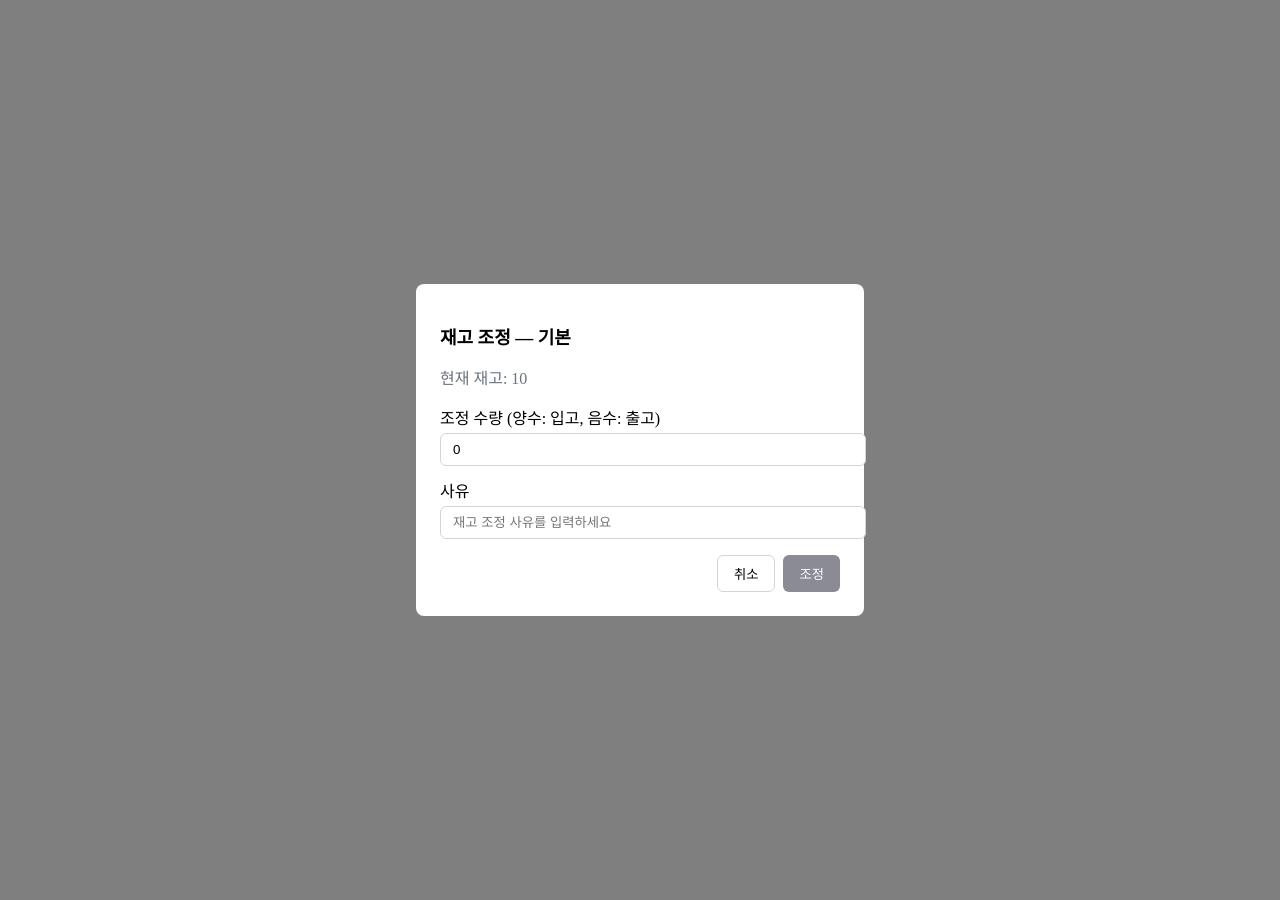
Test: StockAdjustmentForm › API 에러 시 에러 메시지를 표시한다
Replace the text in the number field labelled "조정 수량 (양수: 입고, 음수: 출고)" with "-20": (653,450) [440,433,866,466]
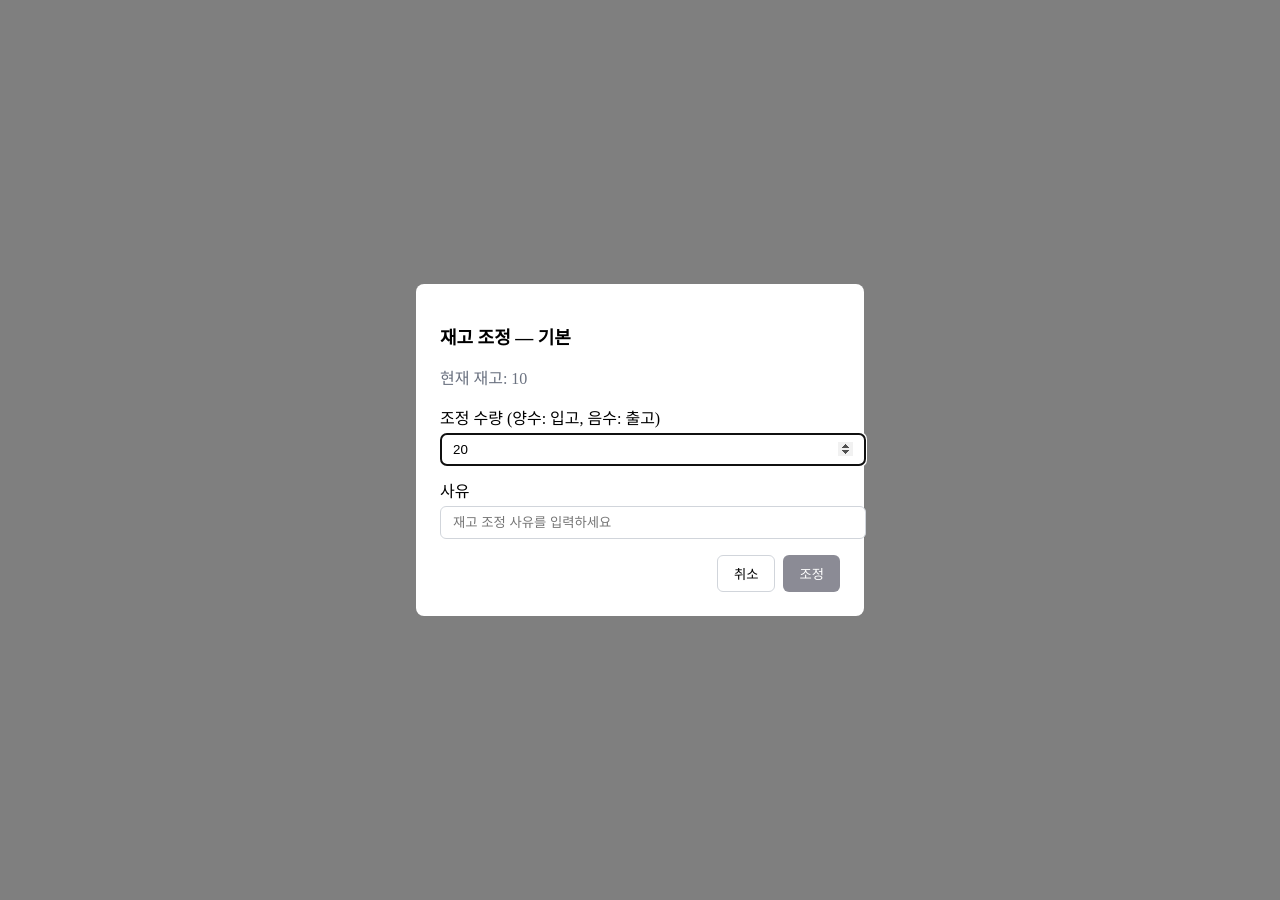
In the field labelled "사유": (653,522) [440,506,866,539], type "출고"
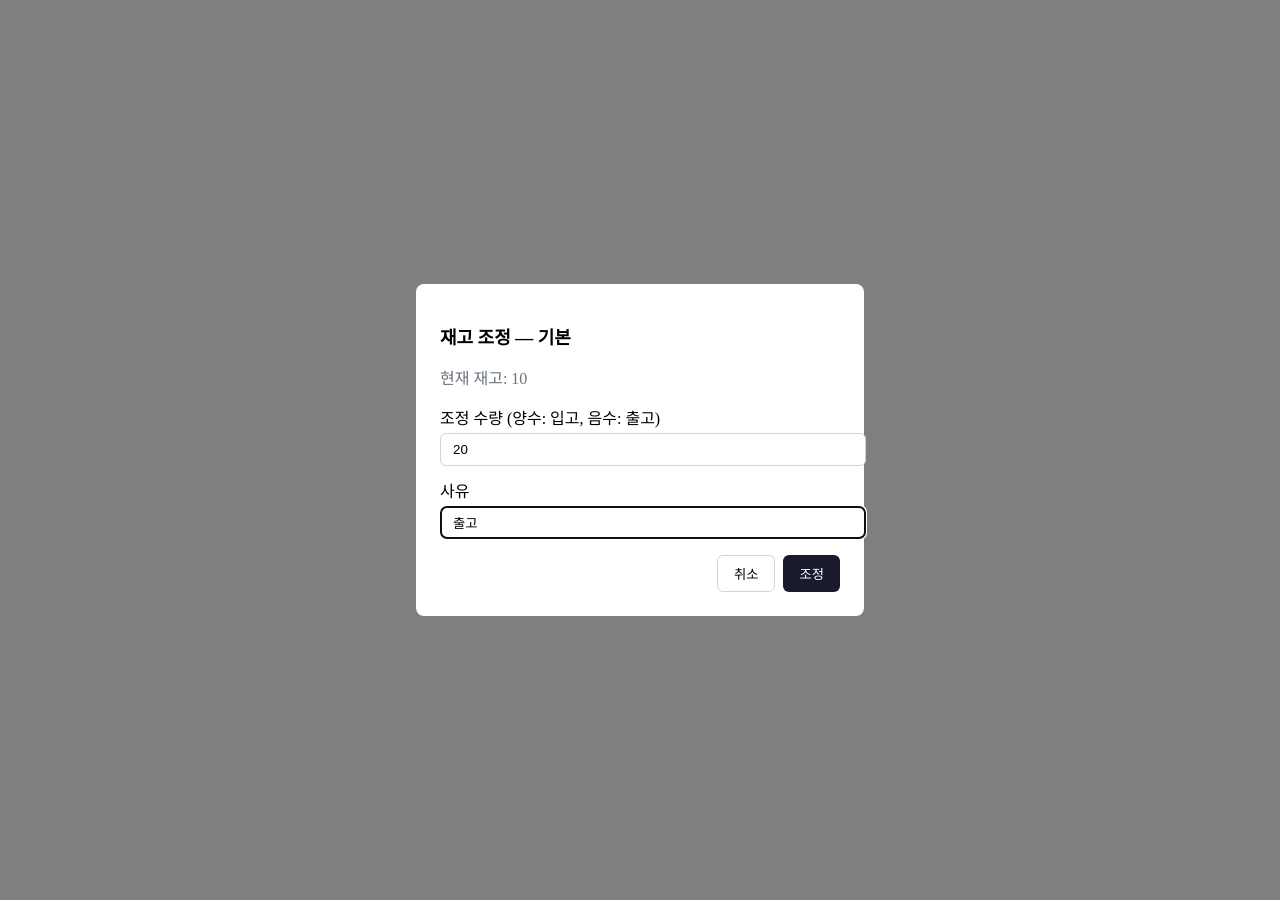
Click the button "조정": (812,574) [784,555,840,592]
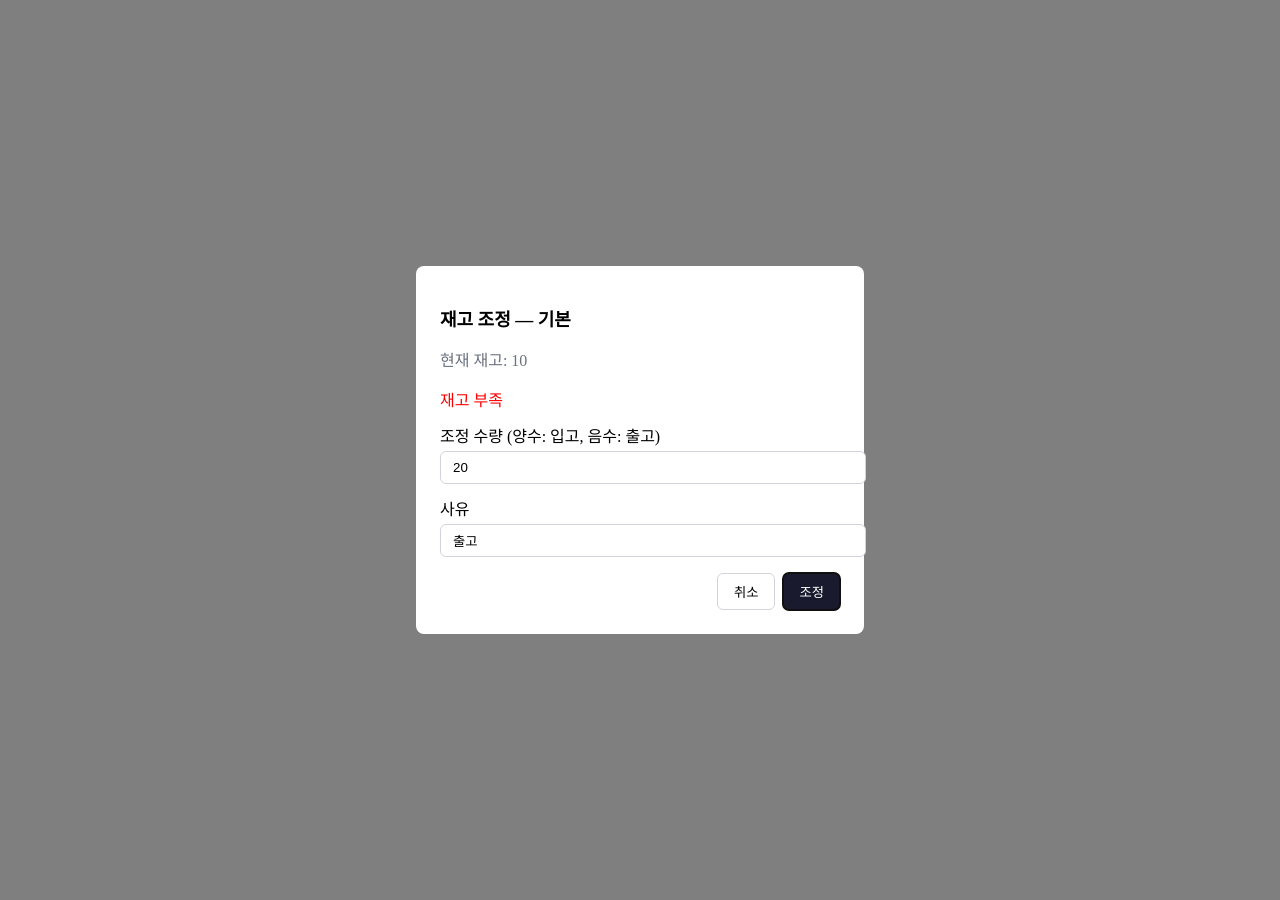
Now the message reads "재고 부족", box [440,392,503,409]
